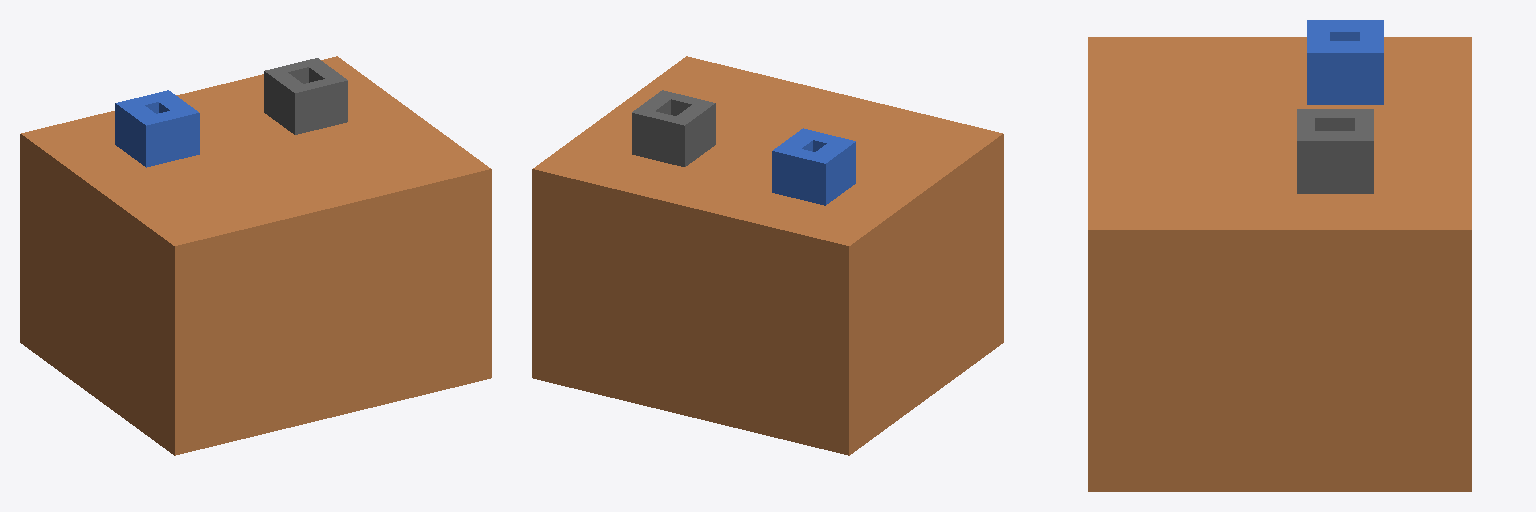
URDF robot description (peg_in_hole_fixtured_scene_0014_peg0018_tol04):
<?xml version="1.0"?>
<robot name="peg_in_hole_fixtured_scene_0014_peg0018_tol04">
  <material name="wood"><color rgba="0.82 0.56 0.35 1.0"/></material>
  <material name="start_fix"><color rgba="0.30 0.50 0.85 1.0"/></material>
  <material name="goal_fix"><color rgba="0.4706 0.4706 0.4706 1.0"/></material>
  <link name="box">
    <visual>
      <origin xyz="0.000000 0.000000 0.000000" rpy="0 0 0"/>
      <geometry><box size="0.475000 0.400000 0.300000"/></geometry>
      <material name="wood"/>
    </visual>
    <collision>
      <origin xyz="0.000000 0.000000 0.000000" rpy="0 0 0"/>
      <geometry><box size="0.475000 0.400000 0.300000"/></geometry>
    </collision>
    <visual>
      <origin xyz="-0.108481 0.067784 0.155000" rpy="0 0 0"/>
      <geometry><box size="0.080000 0.080000 0.010000"/></geometry>
      <material name="start_fix"/>
    </visual>
    <collision>
      <origin xyz="-0.108481 0.067784 0.155000" rpy="0 0 0"/>
      <geometry><box size="0.080000 0.080000 0.010000"/></geometry>
    </collision>
    <visual>
      <origin xyz="-0.083231 0.067784 0.185000" rpy="0 0 0"/>
      <geometry><box size="0.029500 0.080000 0.050000"/></geometry>
      <material name="start_fix"/>
    </visual>
    <collision>
      <origin xyz="-0.083231 0.067784 0.185000" rpy="0 0 0"/>
      <geometry><box size="0.029500 0.080000 0.050000"/></geometry>
    </collision>
    <visual>
      <origin xyz="-0.133731 0.067784 0.185000" rpy="0 0 0"/>
      <geometry><box size="0.029500 0.080000 0.050000"/></geometry>
      <material name="start_fix"/>
    </visual>
    <collision>
      <origin xyz="-0.133731 0.067784 0.185000" rpy="0 0 0"/>
      <geometry><box size="0.029500 0.080000 0.050000"/></geometry>
    </collision>
    <visual>
      <origin xyz="-0.108481 0.095534 0.185000" rpy="0 0 0"/>
      <geometry><box size="0.021000 0.024500 0.050000"/></geometry>
      <material name="start_fix"/>
    </visual>
    <collision>
      <origin xyz="-0.108481 0.095534 0.185000" rpy="0 0 0"/>
      <geometry><box size="0.021000 0.024500 0.050000"/></geometry>
    </collision>
    <visual>
      <origin xyz="-0.108481 0.040034 0.185000" rpy="0 0 0"/>
      <geometry><box size="0.021000 0.024500 0.050000"/></geometry>
      <material name="start_fix"/>
    </visual>
    <collision>
      <origin xyz="-0.108481 0.040034 0.185000" rpy="0 0 0"/>
      <geometry><box size="0.021000 0.024500 0.050000"/></geometry>
    </collision>
    <visual>
      <origin xyz="0.108368 0.057249 0.155000" rpy="0 0 0"/>
      <geometry><box size="0.080000 0.080000 0.010000"/></geometry>
      <material name="goal_fix"/>
    </visual>
    <collision>
      <origin xyz="0.108368 0.057249 0.155000" rpy="0 0 0"/>
      <geometry><box size="0.080000 0.080000 0.010000"/></geometry>
    </collision>
    <visual>
      <origin xyz="0.136380 0.057249 0.185000" rpy="0 0 0"/>
      <geometry><box size="0.023976 0.080000 0.050000"/></geometry>
      <material name="goal_fix"/>
    </visual>
    <collision>
      <origin xyz="0.136380 0.057249 0.185000" rpy="0 0 0"/>
      <geometry><box size="0.023976 0.080000 0.050000"/></geometry>
    </collision>
    <visual>
      <origin xyz="0.080357 0.057249 0.185000" rpy="0 0 0"/>
      <geometry><box size="0.023976 0.080000 0.050000"/></geometry>
      <material name="goal_fix"/>
    </visual>
    <collision>
      <origin xyz="0.080357 0.057249 0.185000" rpy="0 0 0"/>
      <geometry><box size="0.023976 0.080000 0.050000"/></geometry>
    </collision>
    <visual>
      <origin xyz="0.108368 0.087761 0.185000" rpy="0 0 0"/>
      <geometry><box size="0.032048 0.018976 0.050000"/></geometry>
      <material name="goal_fix"/>
    </visual>
    <collision>
      <origin xyz="0.108368 0.087761 0.185000" rpy="0 0 0"/>
      <geometry><box size="0.032048 0.018976 0.050000"/></geometry>
    </collision>
    <visual>
      <origin xyz="0.108368 0.026737 0.185000" rpy="0 0 0"/>
      <geometry><box size="0.032048 0.018976 0.050000"/></geometry>
      <material name="goal_fix"/>
    </visual>
    <collision>
      <origin xyz="0.108368 0.026737 0.185000" rpy="0 0 0"/>
      <geometry><box size="0.032048 0.018976 0.050000"/></geometry>
    </collision>
    <inertial>
      <mass value="500"/>
      <friction value="1.0"/>
      <inertia ixx="1000.0" ixy="0.0" ixz="0.0" iyy="1000.0" iyz="0.0" izz="1000.0"/>
    </inertial>
  </link>
</robot>

--- What the picture shows (computed from the rendered views, not written in the file) ---
3 views of the same robot in one strip: view 1: azimuth 30°, elevation 25°; view 2: azimuth 150°, elevation 25°; view 3: azimuth 270°, elevation 25° (orthographic).
Robot: peg_in_hole_fixtured_scene_0014_peg0018_tol04 — 1 links, 0 joints (none); root link box; default pose: all joints at 0.
Links seen in each view (by area): view 1: box; view 2: box; view 3: box.
Link boxes in pixels (<box>): box: <box>20,56,491,455</box>; box: <box>532,56,1003,455</box>; box: <box>1088,20,1471,491</box>.
Bounding box of the posed robot: 0.475 × 0.4 × 0.36 m (x, y, z).
Geometry: primitives only (box / cylinder / sphere), no mesh files.
